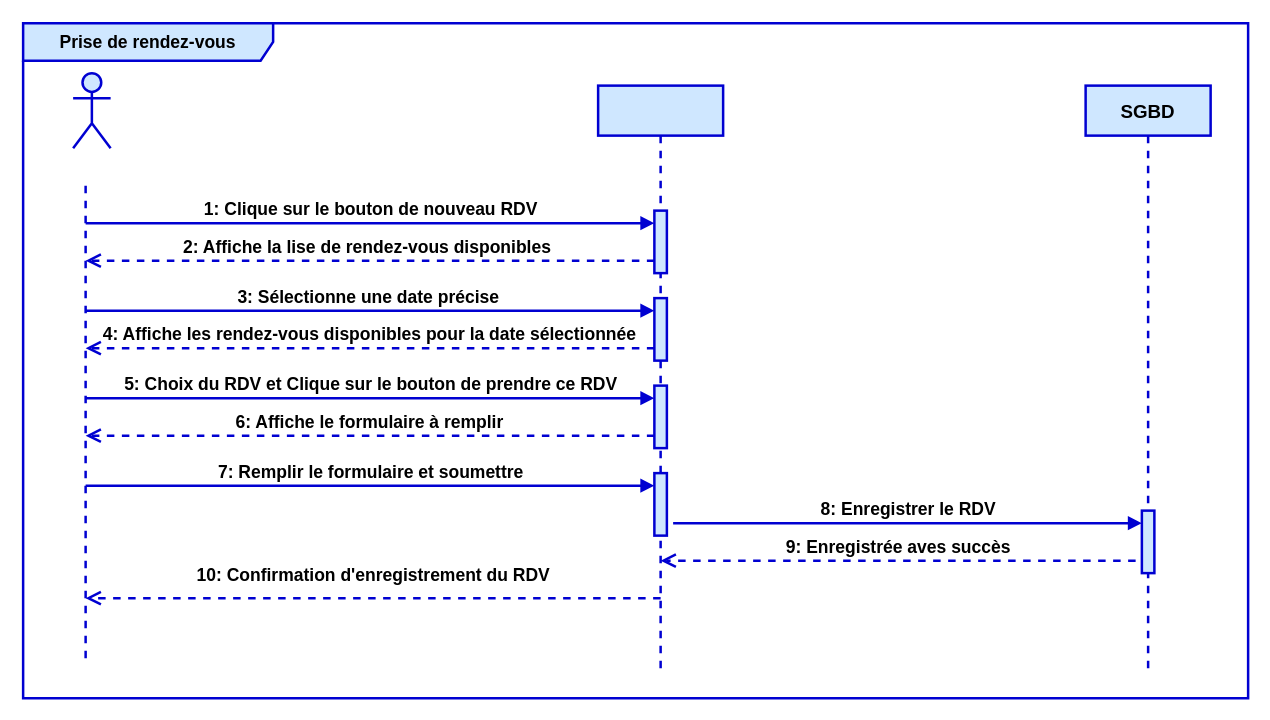
Image size: 1270x720. Some labels were removed from this diagram. Each missing label, with the box of its shape:
Patient: (71, 71, 111, 149)
Système: (596, 84, 724, 674)
